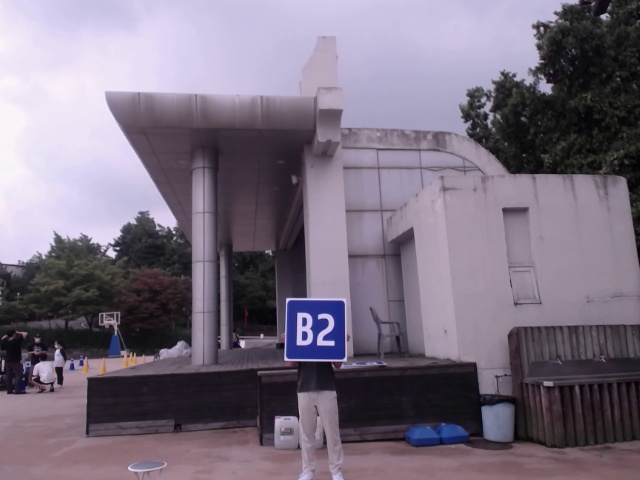delivery_b2: (285, 298, 346, 360)
